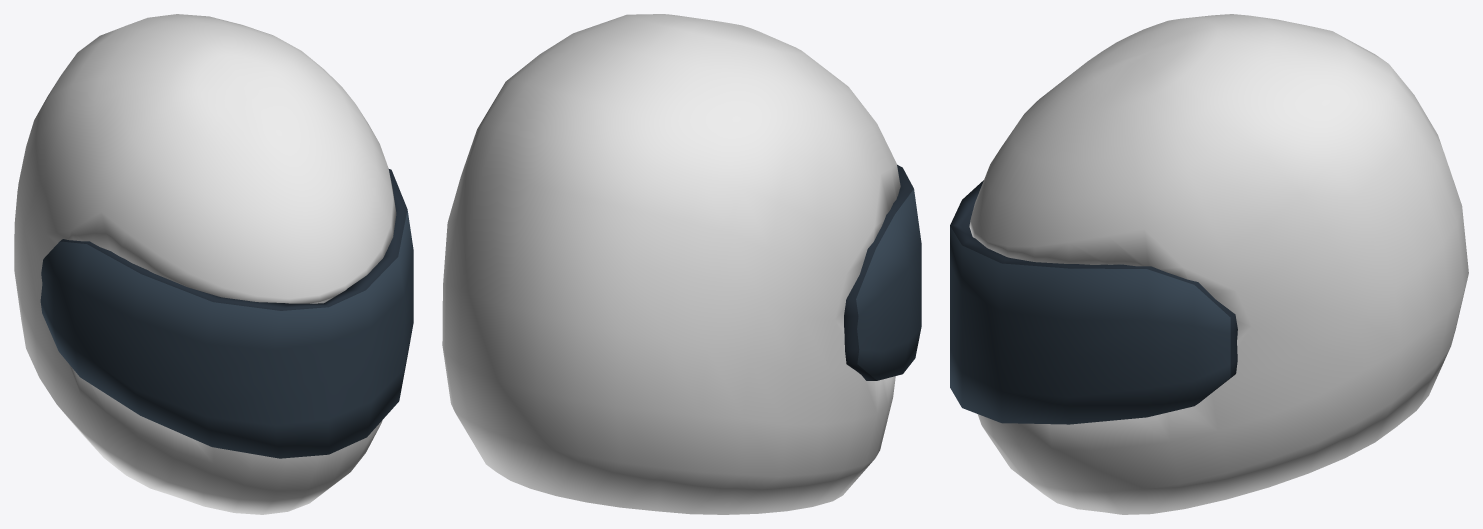
The model's file is racingHelmet.fbx.
3 renders of one model, left to right at view 1: azimuth 30°, elevation 25°; view 2: azimuth 150°, elevation 25°; view 3: azimuth 270°, elevation 25°, orthographic. The views are drawn at different scales.
Visible parts, largest first — view 1: racingHelmet, racingHelmetVisor; view 2: racingHelmet, racingHelmetVisor; view 3: racingHelmet, racingHelmetVisor.
Boxes of the visible parts, x1,y1,x2,y2 form: racingHelmet: (14,14,396,514); racingHelmetVisor: (40,169,413,458); racingHelmet: (442,14,900,514); racingHelmetVisor: (844,164,921,380); racingHelmet: (969,14,1468,514); racingHelmetVisor: (950,180,1237,424).
Size of the model in its own units: 116 by 139 by 144.
